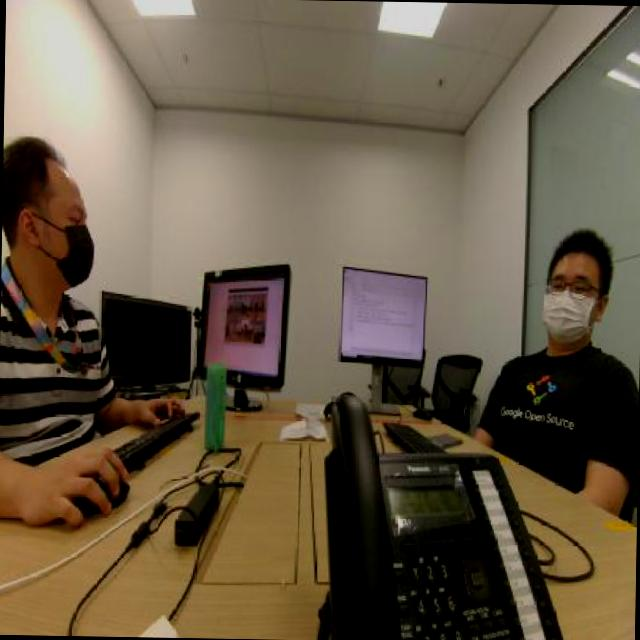Person: (0, 122, 131, 455), (501, 222, 640, 438)
